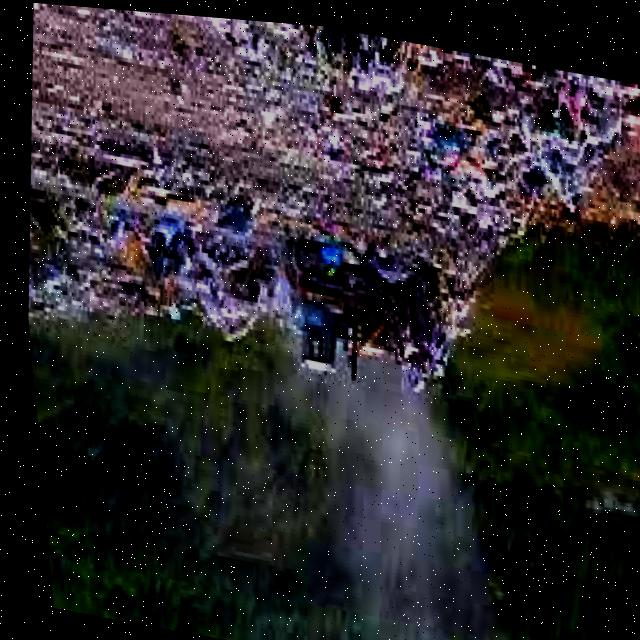Smoke: (288, 338, 508, 640)
